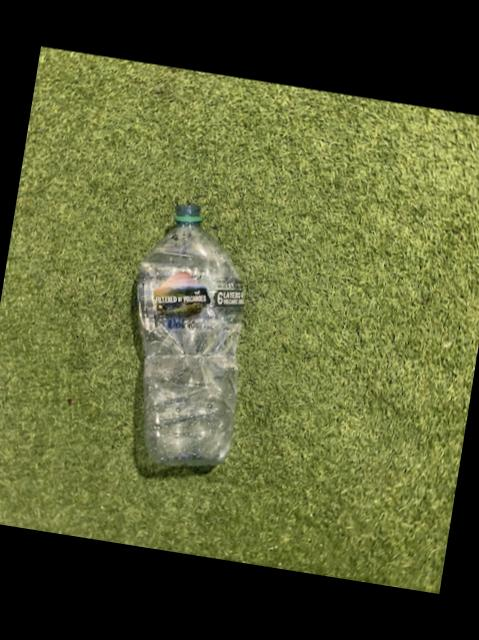plastic: (134, 205, 240, 466)
